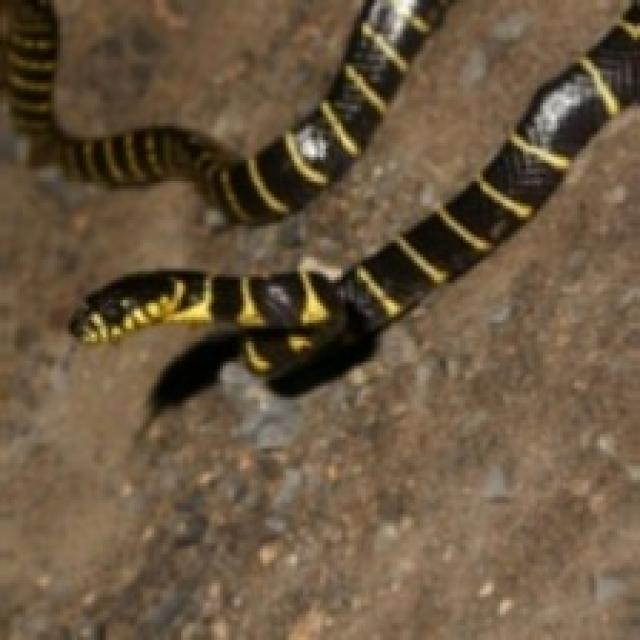mangrove cat snake: (69, 0, 637, 377), (9, 0, 451, 231)
